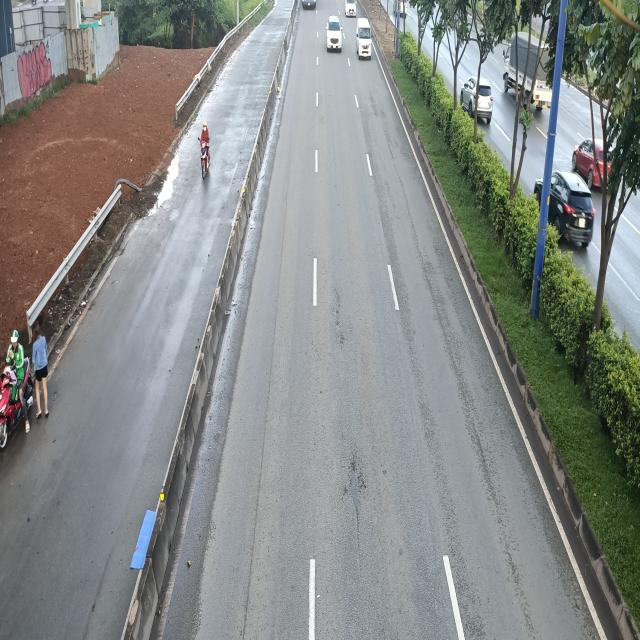car: (326, 16, 344, 53)
van: (354, 18, 372, 61)
